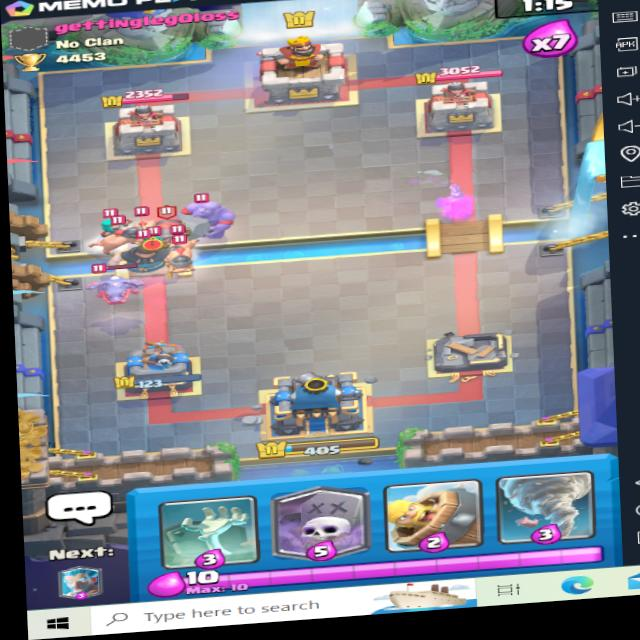bowler: (169, 184, 254, 249)
cannon-cart: (144, 202, 200, 255)
electro-dragon: (83, 257, 150, 313)
rascal-boy: (115, 235, 177, 280)
rascal-girl: (88, 210, 125, 238)
royal-hogs: (93, 222, 150, 250), (163, 247, 200, 278)
